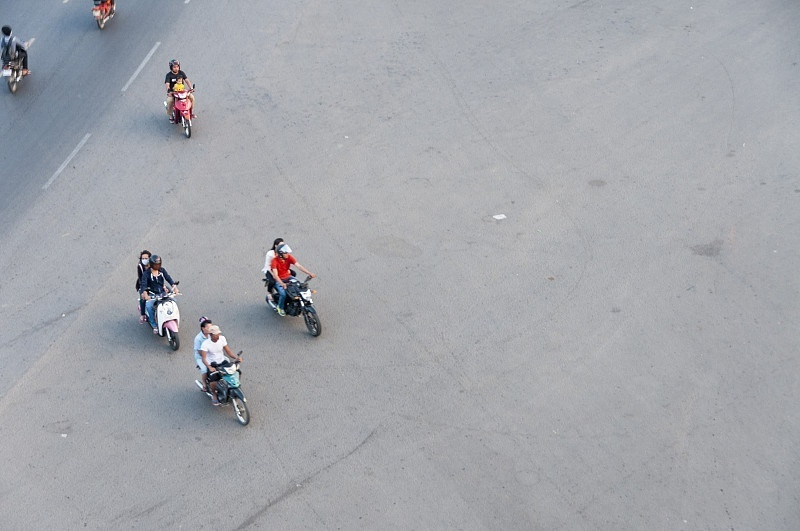non-vehicle: (261, 267, 321, 334), (200, 356, 246, 428), (142, 281, 181, 348), (165, 85, 194, 134), (1, 40, 30, 86), (92, 1, 114, 27)
